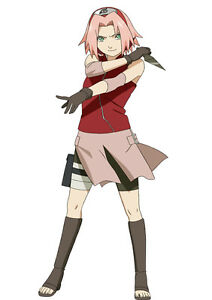sakura: (87, 6, 135, 60)
